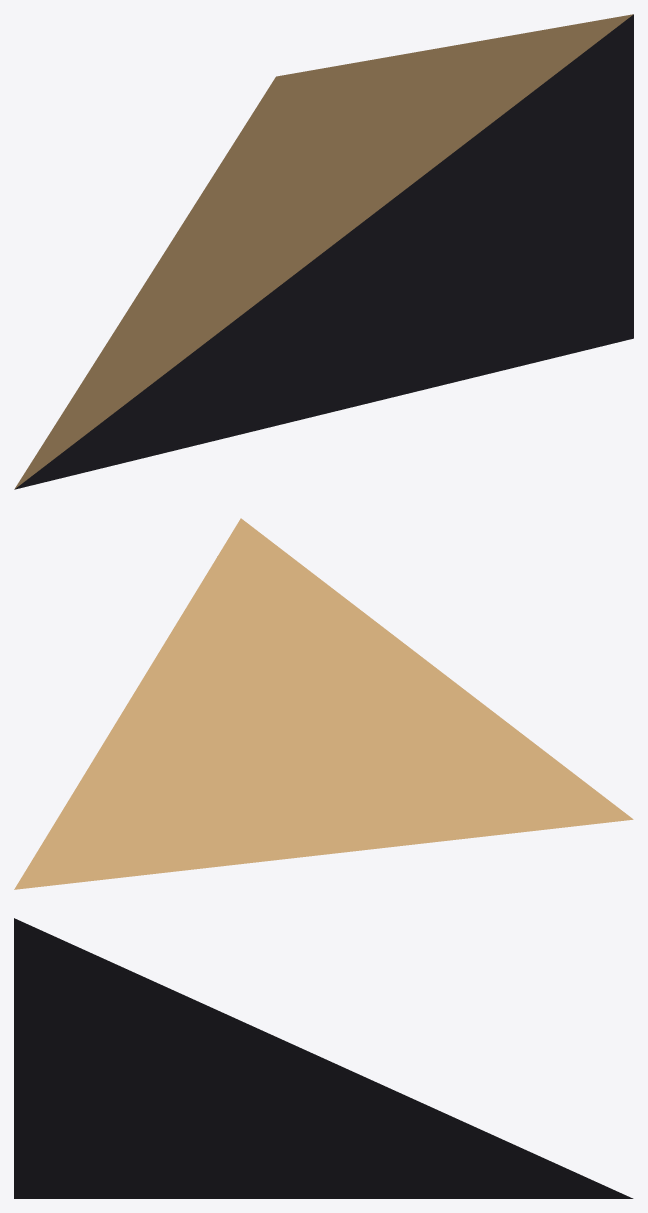
3 views of the same model, one above another, from view 1: azimuth 30°, elevation 25°; view 2: azimuth 150°, elevation 25°; view 3: azimuth 270°, elevation 25° (orthographic). The views are drawn at different scales.
Visible parts, largest first — view 1: Pyramid_5; view 2: Pyramid_5; view 3: Pyramid_5.
Boxes of the visible parts, x1,y1,x2,y2 form: Pyramid_5: (14,14,633,489); Pyramid_5: (14,518,633,889); Pyramid_5: (14,918,633,1198).
Bounding box in the file's own units: 10 × 5 × 10.
